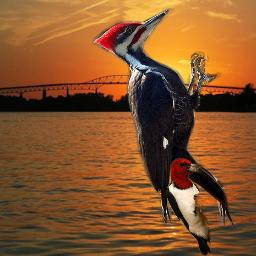Woodpecker: (92, 8, 234, 227), (166, 158, 211, 256)
